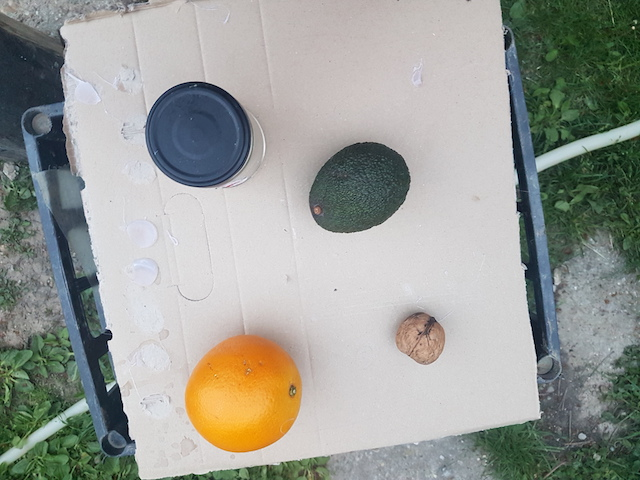avocado: (306, 136, 409, 236)
nut: (392, 311, 447, 372)
orange: (185, 331, 303, 452)
recipient: (144, 78, 253, 198)
